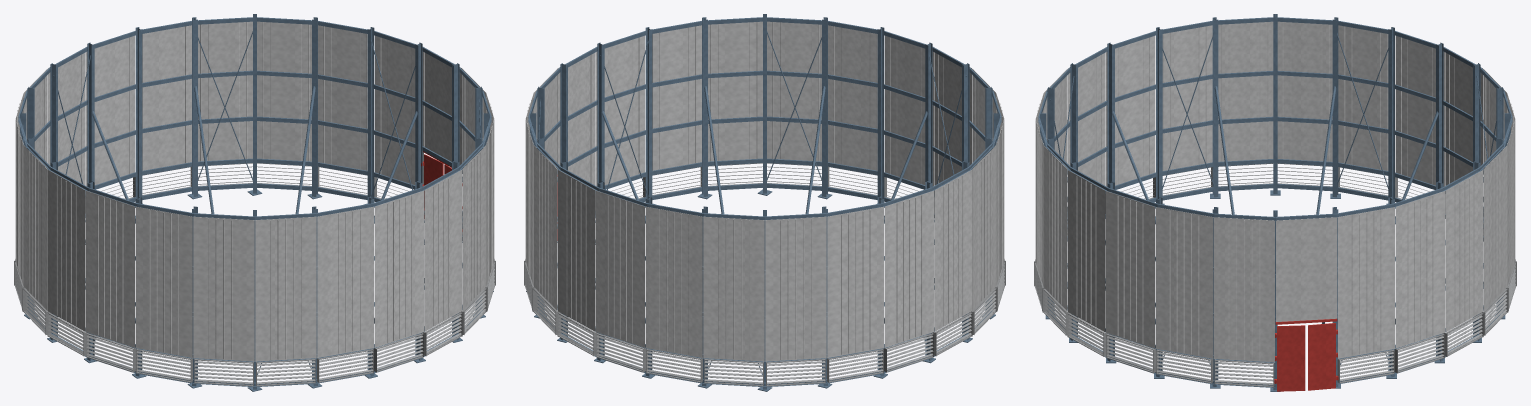
Rendered from wind-fence.glb.
The picture shows the model from 3 angles, left to right: view 1: azimuth 30°, elevation 25°; view 2: azimuth 150°, elevation 25°; view 3: azimuth 270°, elevation 25°; orthographic projection.
Parts seen in each view (by area): view 1: CladdingPanels, AirLouvres, Girts, Posts, Bracing, AccessDoor, BasePlates; view 2: CladdingPanels, AirLouvres, Girts, Posts, Bracing, BasePlates; view 3: CladdingPanels, Girts, Posts, AirLouvres, AccessDoor, Bracing, BasePlates.
Boxes of the visible parts, <box> form: CladdingPanels: <box>15,21,494,361</box>; AirLouvres: <box>14,163,495,386</box>; Girts: <box>18,17,491,387</box>; Posts: <box>20,14,489,389</box>; Bracing: <box>22,31,487,374</box>; AccessDoor: <box>421,151,462,231</box>; BasePlates: <box>24,189,493,391</box>; CladdingPanels: <box>525,21,1004,361</box>; AirLouvres: <box>524,163,1005,386</box>; Girts: <box>528,17,1001,387</box>; Posts: <box>530,14,999,389</box>; Bracing: <box>532,31,997,374</box>; BasePlates: <box>526,189,995,391</box>; CladdingPanels: <box>1035,21,1515,362</box>; Girts: <box>1038,17,1512,387</box>; Posts: <box>1040,14,1510,390</box>; AirLouvres: <box>1034,163,1516,387</box>; AccessDoor: <box>1274,318,1338,391</box>; Bracing: <box>1050,33,1500,366</box>; BasePlates: <box>1045,190,1505,391</box>.
Size of the model in its own units: 22.86 by 9.3 by 22.86.
4 materials, 4 textured.
